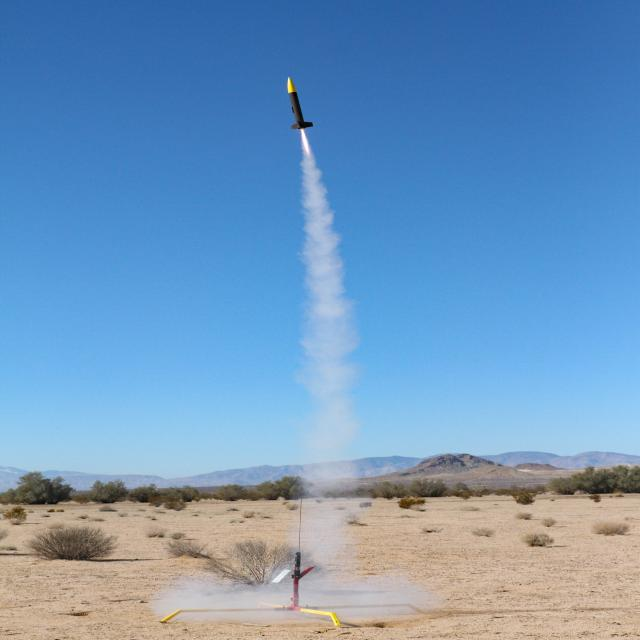Rocket: (283, 74, 316, 132)
